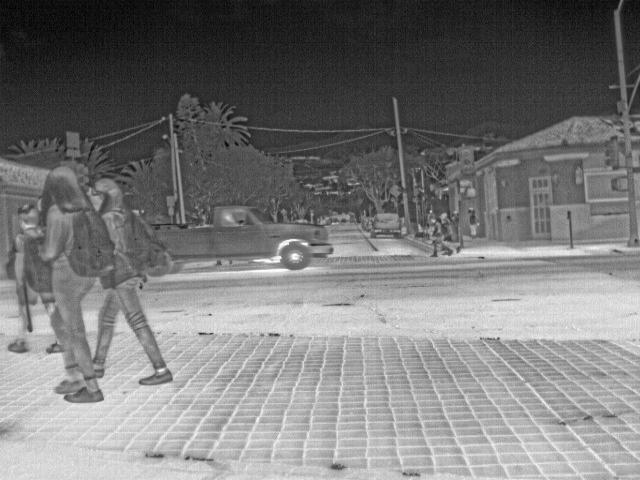car: (146, 206, 335, 278), (370, 212, 401, 238), (360, 214, 373, 230)
person: (89, 177, 175, 386), (43, 164, 104, 406), (13, 202, 45, 354), (429, 214, 442, 257), (442, 216, 455, 252), (469, 207, 480, 240)
